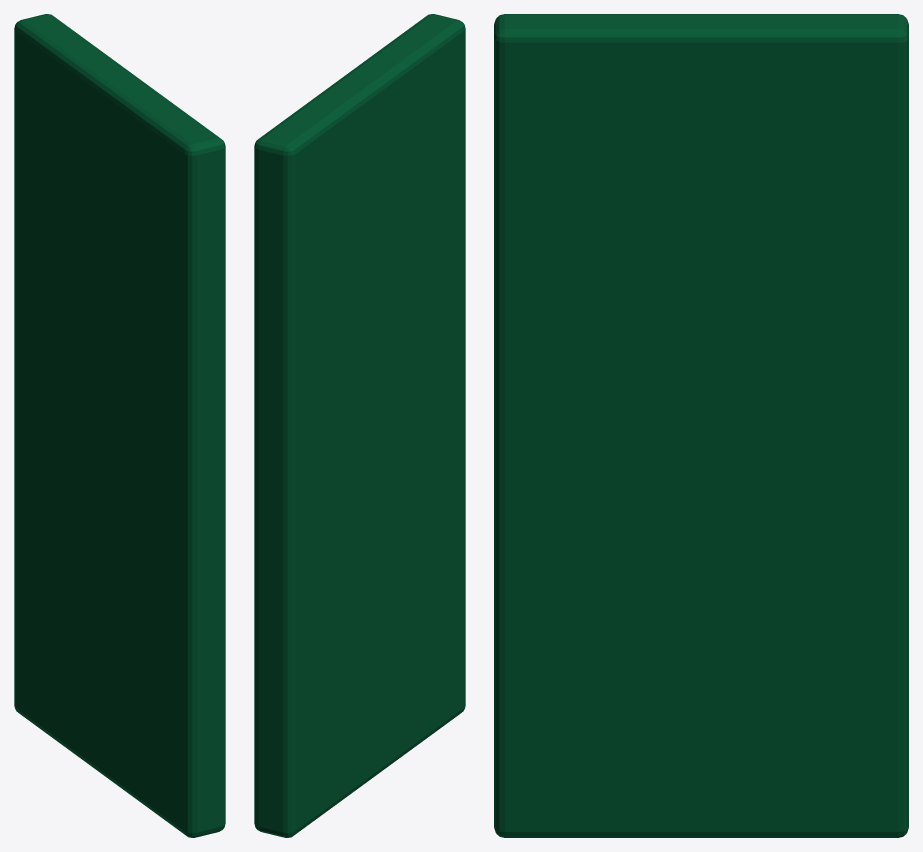
Rendered from exit_sign_0.obj.
3 renders of one model, left to right at view 1: azimuth 30°, elevation 25°; view 2: azimuth 150°, elevation 25°; view 3: azimuth 270°, elevation 25°, orthographic. The views are drawn at different scales.
Bounding box in the file's own units: 0.026 × 0.43 × 0.2.
